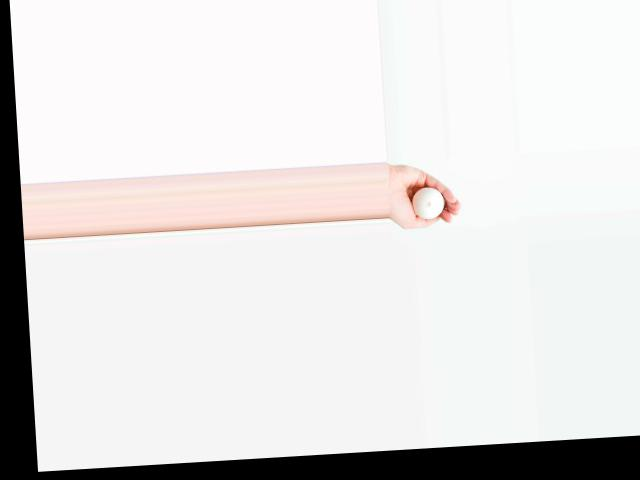egg: (412, 186, 445, 218)
